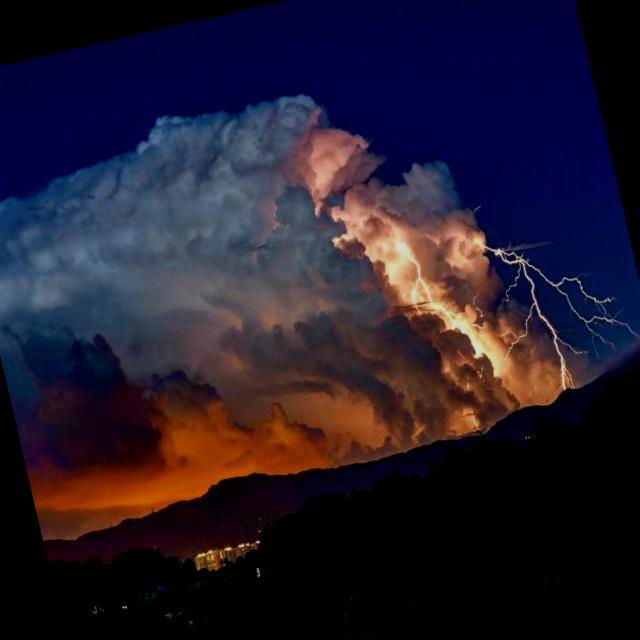cumulonimbus: (0, 26, 639, 529)
